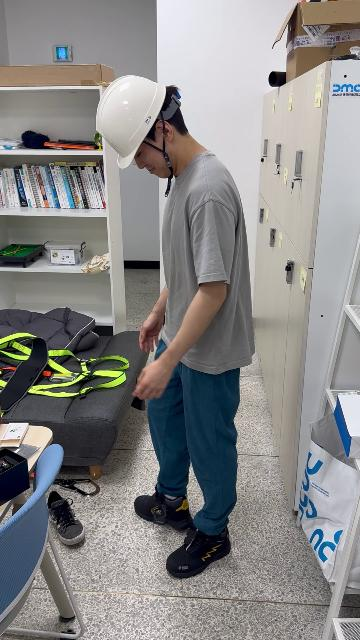helmet_worn: (95, 74, 168, 169)
shoe_not_worn: (46, 490, 85, 544)
shoe_worn: (166, 522, 231, 578), (134, 483, 191, 529)
vest_not_worn: (154, 177, 257, 369)
